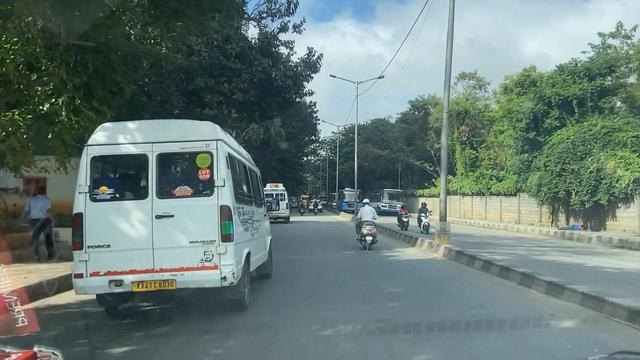HMV: (85, 124, 272, 313)
LMV: (344, 190, 386, 257)
